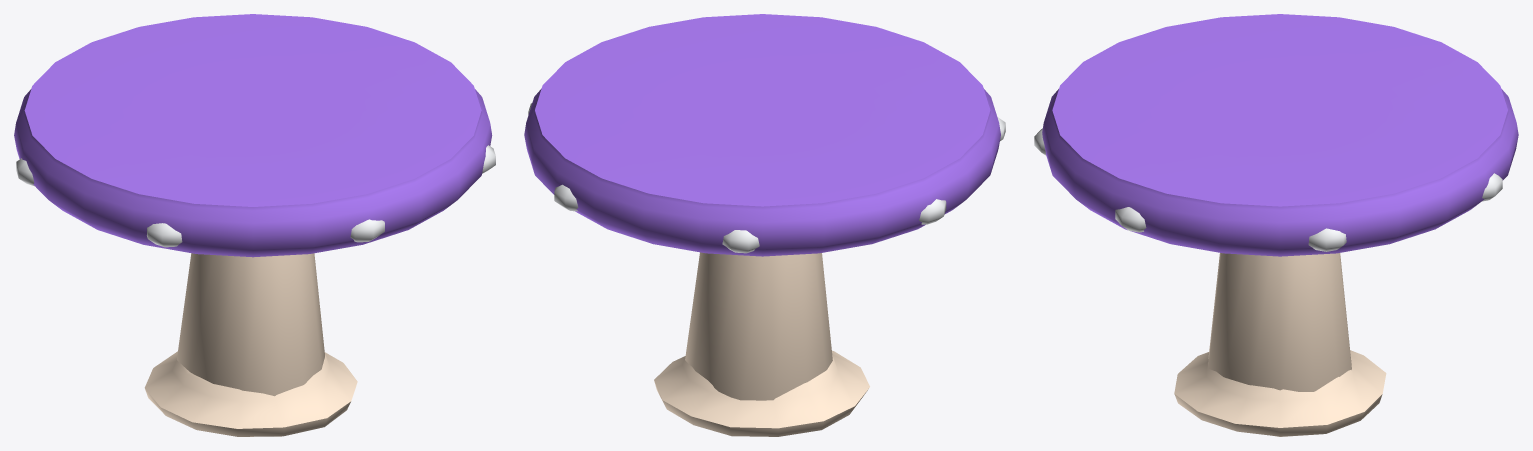
The model's file is HongoPlataformaChico.fbx.
The picture shows the model from 3 angles, left to right: view 1: azimuth 30°, elevation 25°; view 2: azimuth 150°, elevation 25°; view 3: azimuth 270°, elevation 25°; orthographic projection.
Parts seen in each view (by area): view 1: HongoPlataformaChico_Sombrero, HongoPlataformaChico_Pie, HongoPlataformaChico_Lunares; view 2: HongoPlataformaChico_Sombrero, HongoPlataformaChico_Pie, HongoPlataformaChico_Lunares; view 3: HongoPlataformaChico_Sombrero, HongoPlataformaChico_Pie, HongoPlataformaChico_Lunares.
Part boxes in pixels (x1,y1,x2,y2): HongoPlataformaChico_Sombrero: [14, 14, 492, 257]; HongoPlataformaChico_Pie: [144, 253, 357, 436]; HongoPlataformaChico_Lunares: [16, 145, 495, 247]; HongoPlataformaChico_Sombrero: [524, 14, 1000, 256]; HongoPlataformaChico_Pie: [654, 252, 869, 436]; HongoPlataformaChico_Lunares: [528, 103, 1005, 253]; HongoPlataformaChico_Sombrero: [1042, 14, 1518, 256]; HongoPlataformaChico_Pie: [1174, 253, 1386, 436]; HongoPlataformaChico_Lunares: [1034, 128, 1502, 251].
Size of the model in its own units: 6.05 by 4 by 6.09.
